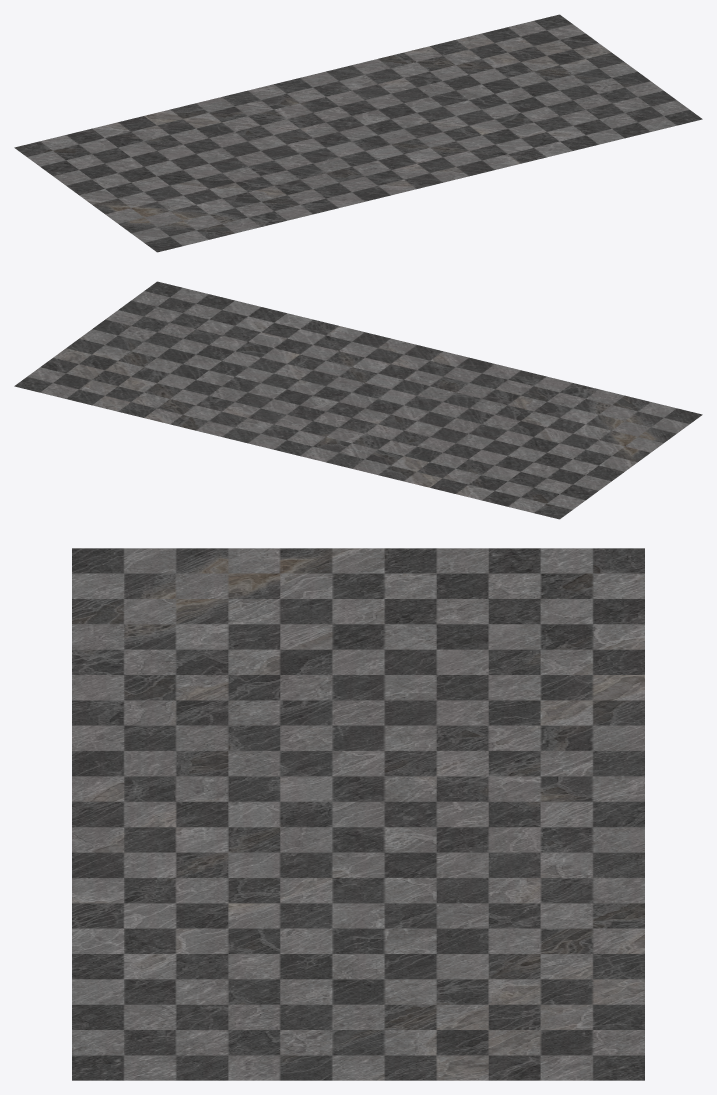
The model's file is Floor_mdl.fbx.
3 views of the same model, one above another, from view 1: azimuth 30°, elevation 25°; view 2: azimuth 150°, elevation 25°; view 3: azimuth 270°, elevation 25° (orthographic). The views are drawn at different scales.
Visible parts, largest first — view 1: pPlane1; view 2: pPlane1; view 3: pPlane1.
Boxes of the visible parts, x1,y1,x2,y2 form: pPlane1: (14,14,702,252); pPlane1: (14,281,702,519); pPlane1: (72,548,644,1080).
Size of the model in its own units: 905 by 0 by 411.
Materials: 1 (1 with a texture image).
